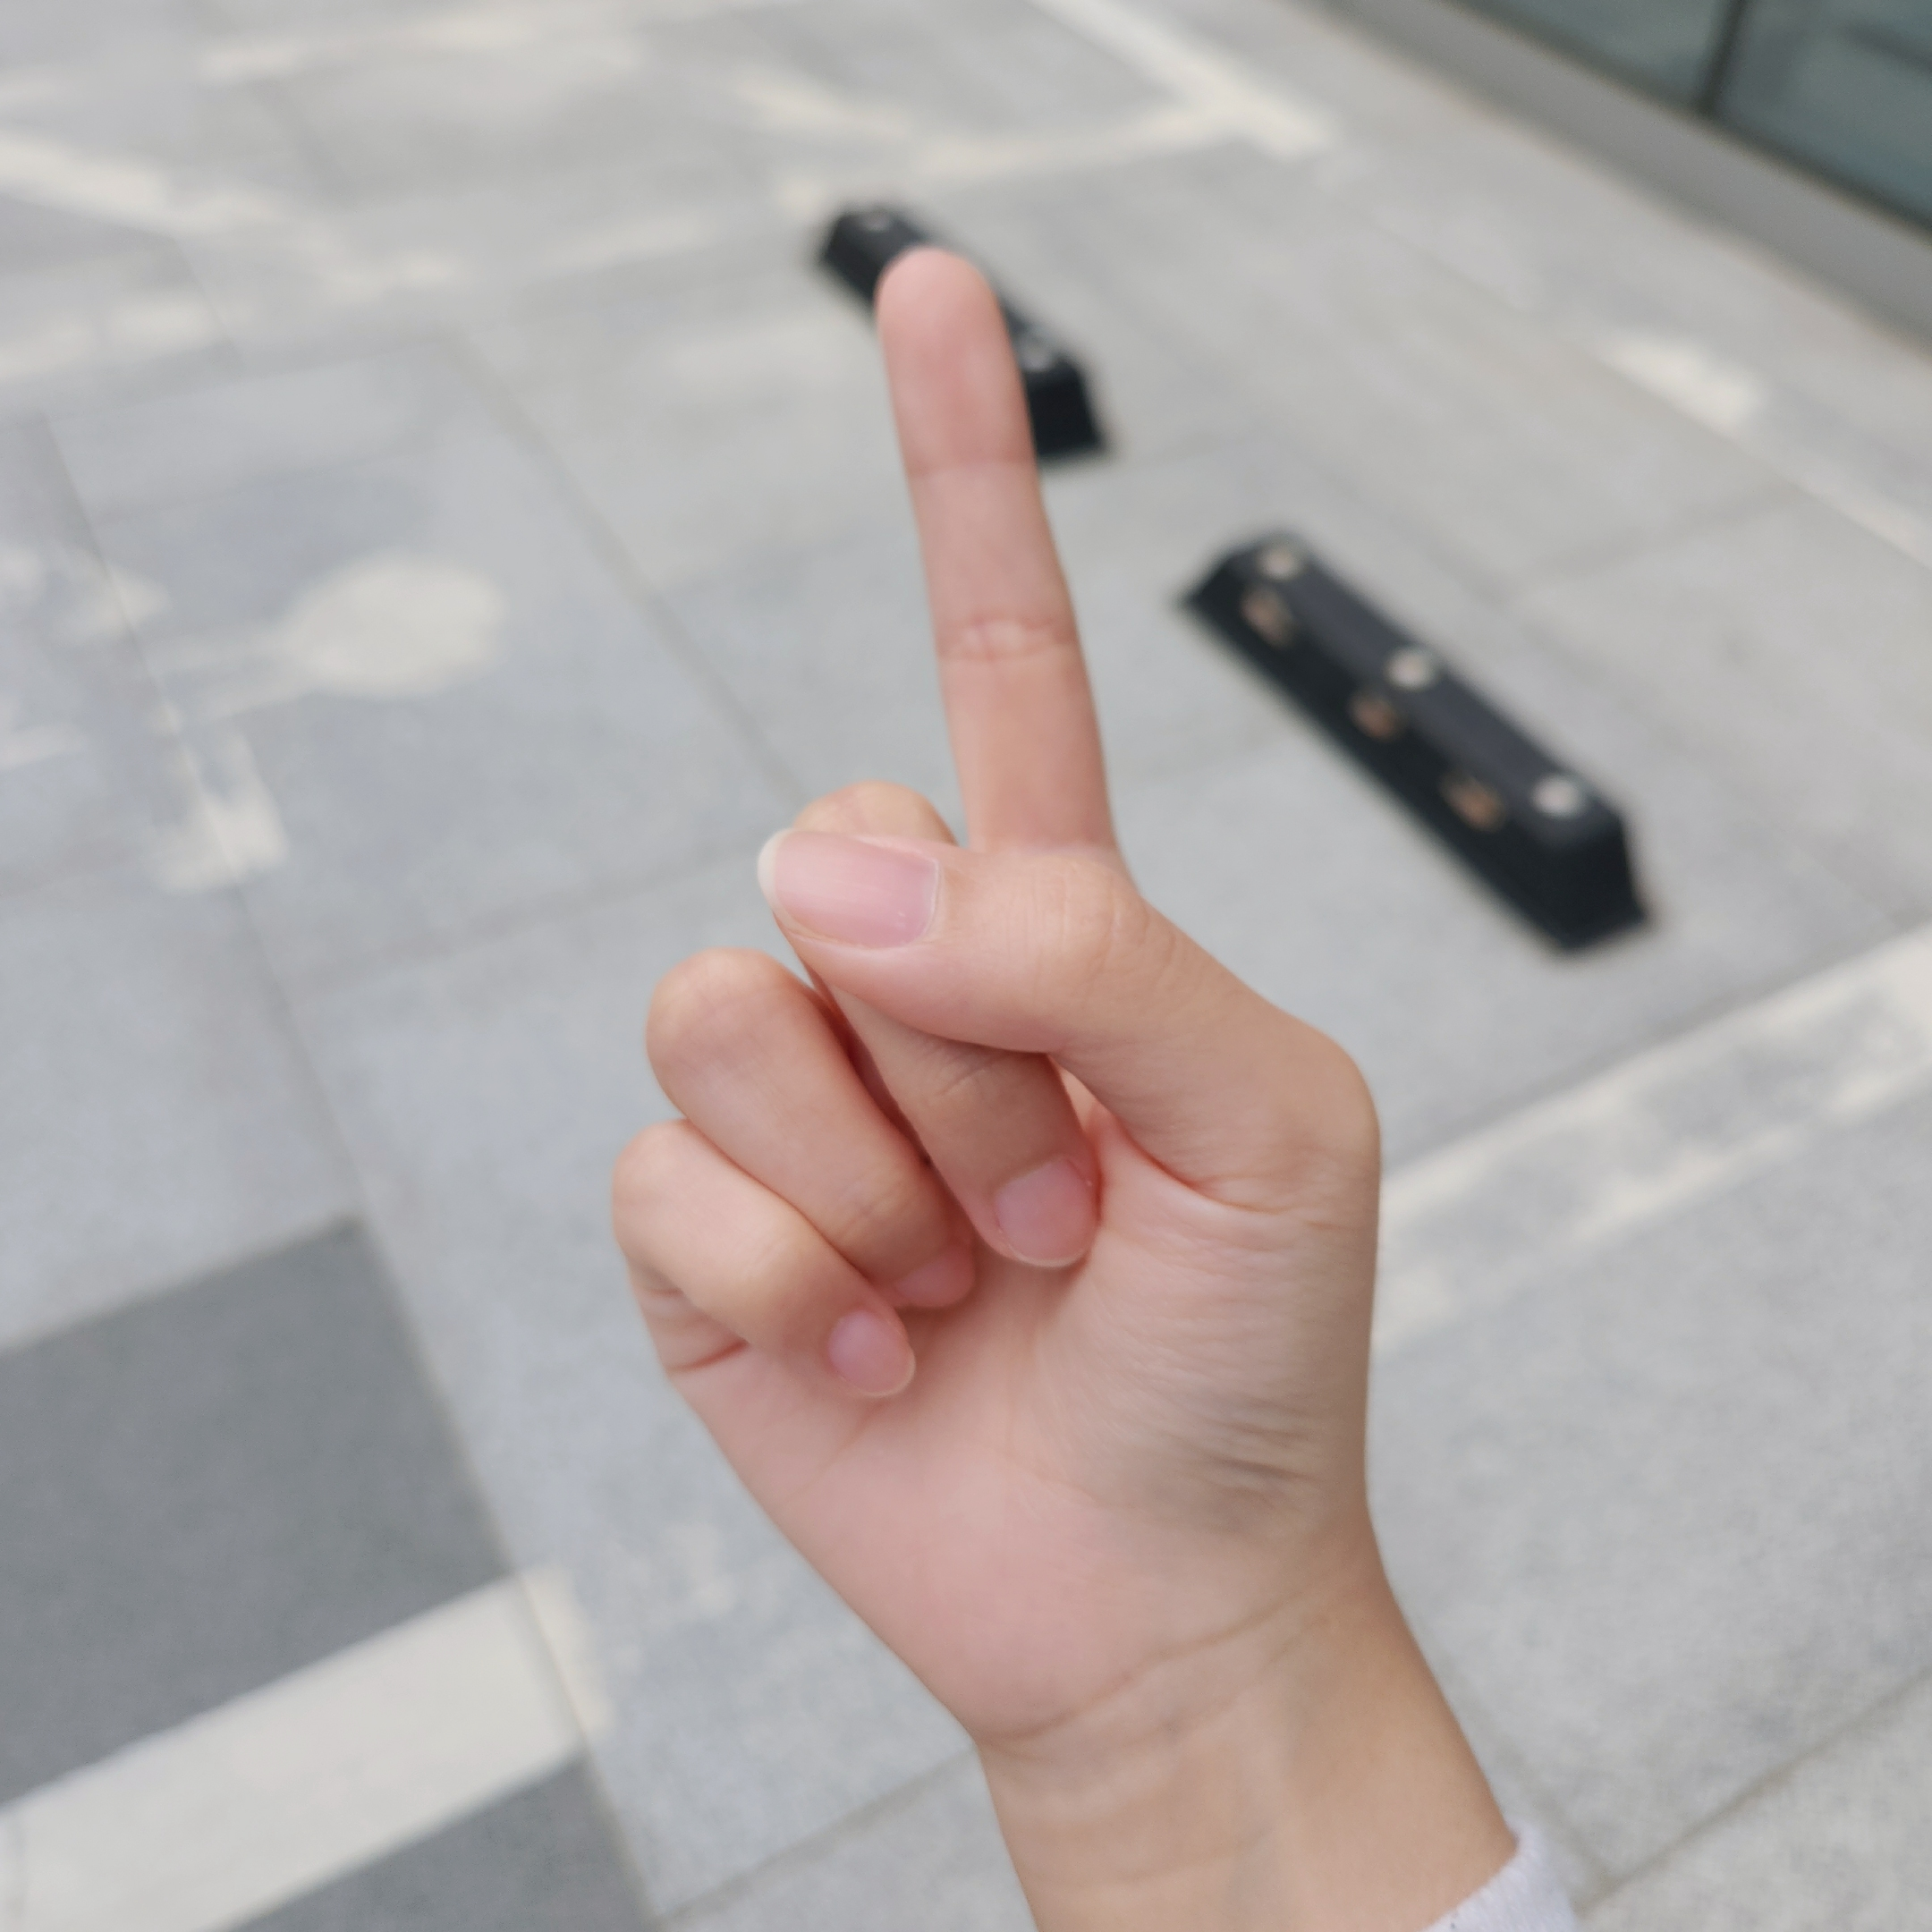what: (610, 241, 1394, 1746)
